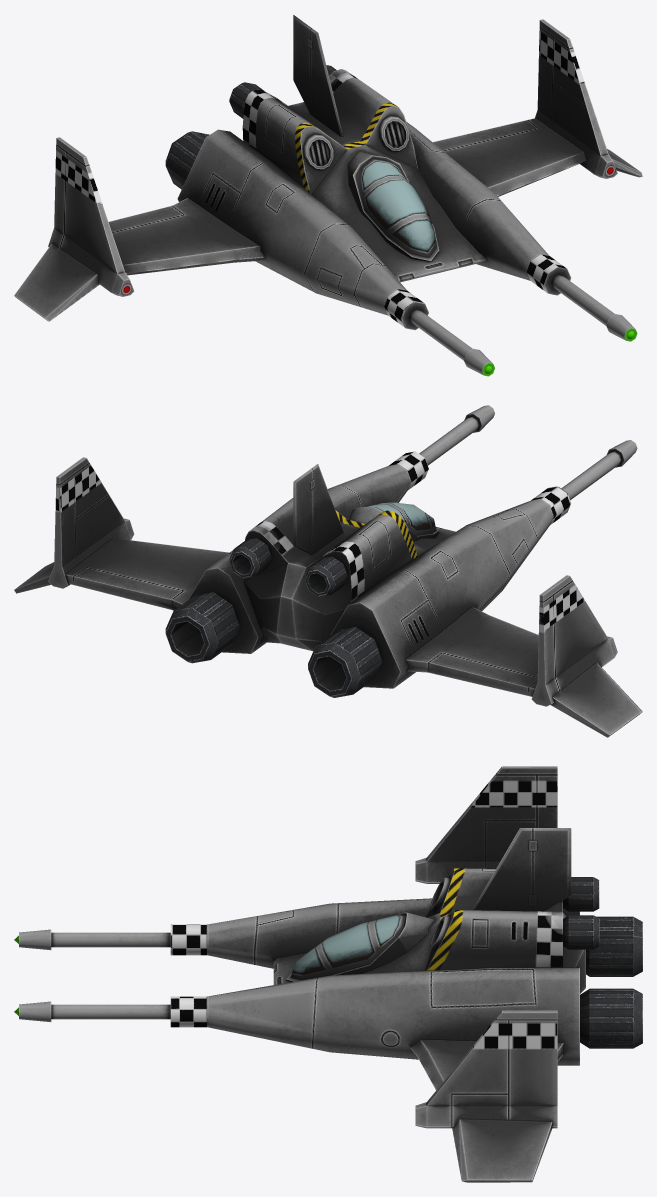
File: Sparrowhawk.fbx
3 views of the same model, one above another, from view 1: azimuth 30°, elevation 25°; view 2: azimuth 150°, elevation 25°; view 3: azimuth 270°, elevation 25° (orthographic). The views are drawn at different scales.
Parts seen in each view (by area): view 1: body uv, rwing uv, lwing uv; view 2: body uv, rwing uv, lwing uv; view 3: body uv, lwing uv, rwing uv.
Part boxes in pixels (x1=…): body uv: x1=165, y1=15, x2=637, y2=376; rwing uv: x1=14, y1=137, x2=264, y2=321; lwing uv: x1=433, y1=19, x2=642, y2=196; body uv: x1=165, y1=405, x2=637, y2=697; rwing uv: x1=405, y1=575, x2=642, y2=737; lwing uv: x1=14, y1=457, x2=228, y2=610; body uv: x1=14, y1=828, x2=642, y2=1065; lwing uv: x1=409, y1=1010, x2=563, y2=1182; rwing uv: x1=415, y1=766, x2=557, y2=883.
Size of the model in its own units: 23.41 by 20.62 by 7.43.
1 material, 1 textured.
